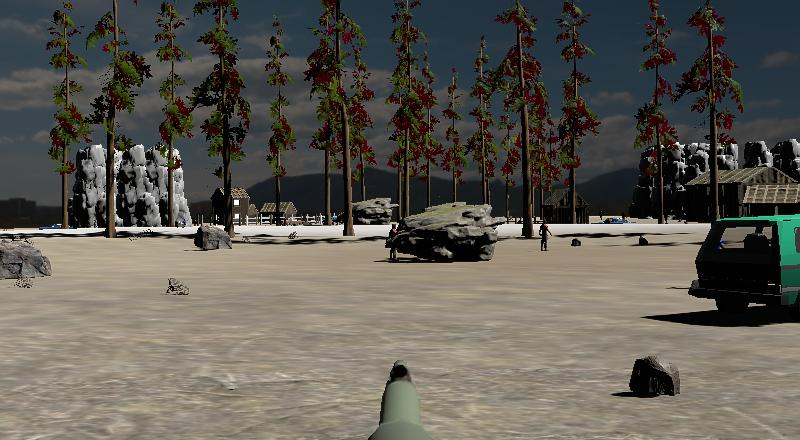Human: (385, 219, 401, 263), (536, 216, 554, 254)
car: (691, 207, 800, 321)
